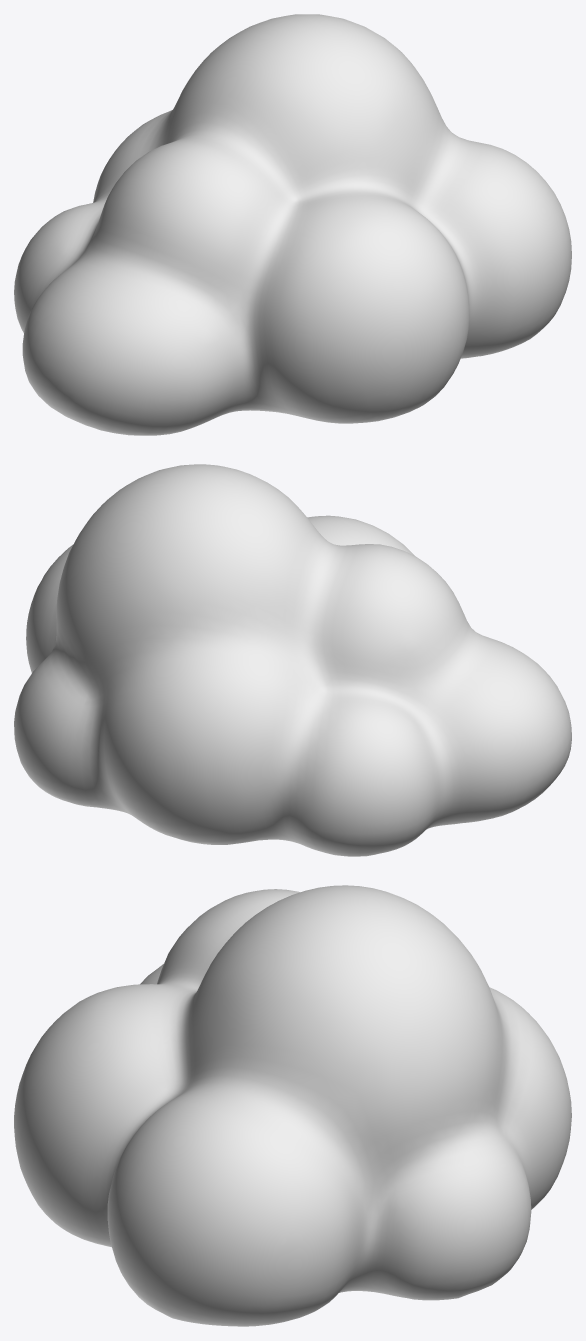
The model's file is PremadeCloudy.glb.
3 renders of one model, top to bottom at view 1: azimuth 30°, elevation 25°; view 2: azimuth 150°, elevation 25°; view 3: azimuth 270°, elevation 25°, orthographic. The views are drawn at different scales.
Parts seen in each view (by area): view 1: node_id56; view 2: node_id56; view 3: node_id56.
Boxes of the visible parts, <box> form: node_id56: <box>14,14,571,435</box>; node_id56: <box>14,464,571,856</box>; node_id56: <box>14,885,571,1326</box>.
Bounding box in the file's own units: 0.512 × 0.2832 × 0.4155.
Materials: 1 (1 with a texture image).
